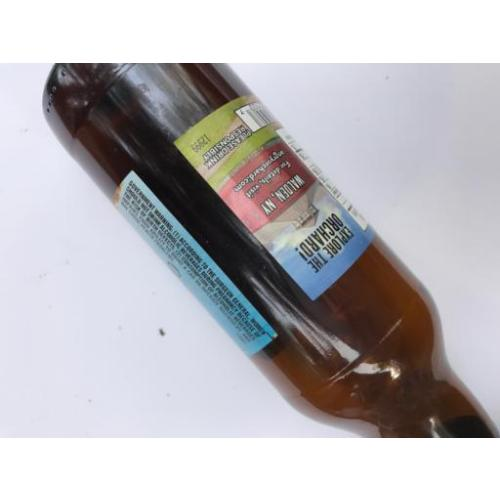glass: (41, 61, 500, 435)
